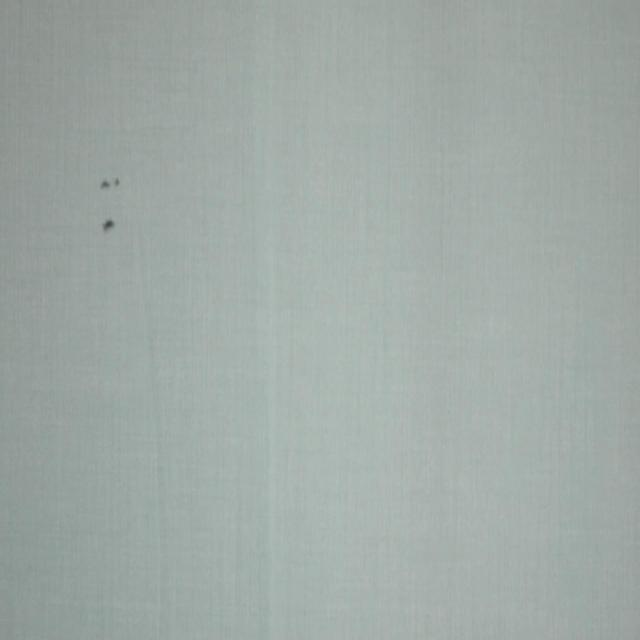dirty: (101, 178, 119, 190), (103, 218, 114, 232)
